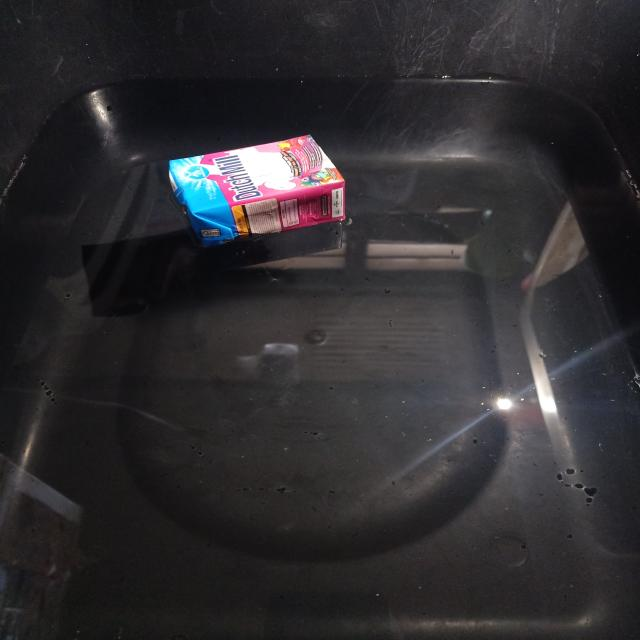Cardboard Box: (169, 135, 345, 246)
